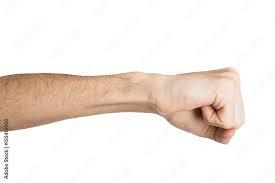Right-Fist: (150, 65, 246, 146)
